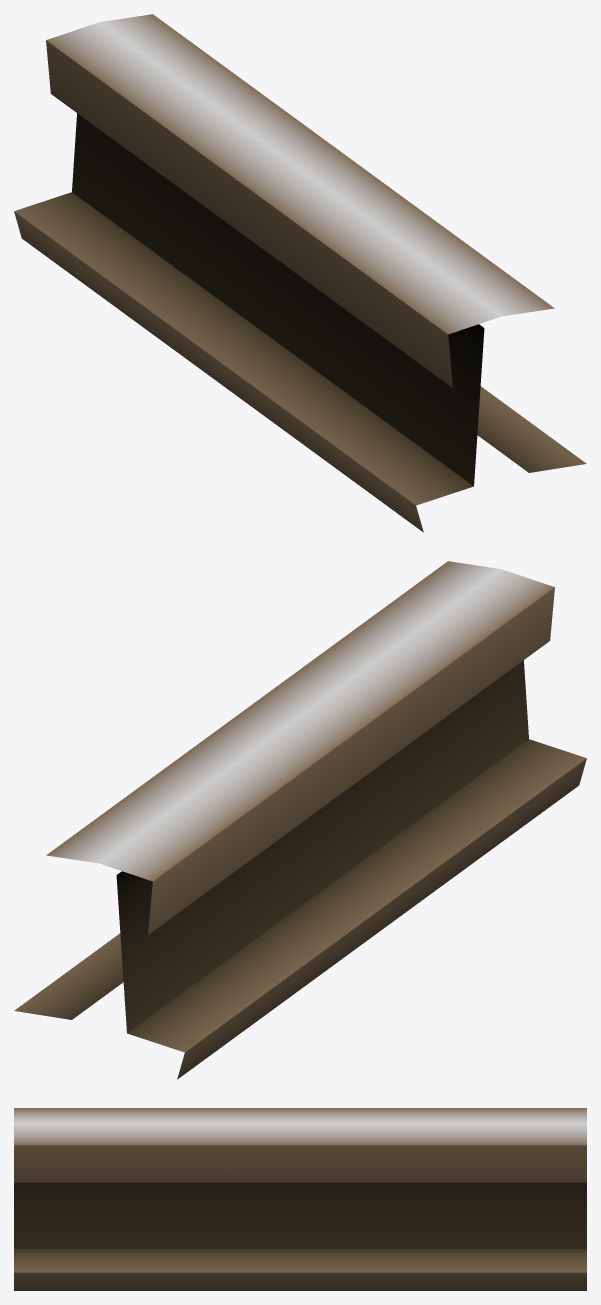
File: AMB_POINTRAILGARD.glb
3 views of the same model, one above another, from view 1: azimuth 30°, elevation 25°; view 2: azimuth 150°, elevation 25°; view 3: azimuth 270°, elevation 25° (orthographic). The views are drawn at different scales.
Parts seen in each view (by area): view 1: obj9; view 2: obj9; view 3: obj9.
Part boxes in pixels (x1=…): obj9: x1=14, y1=14, x2=586, y2=532; obj9: x1=14, y1=561, x2=586, y2=1079; obj9: x1=14, y1=1108, x2=586, y2=1290.
Size of the model in its own units: 0.3598 by 0.3971 by 1.47.
Materials: 2 (1 with a texture image).
